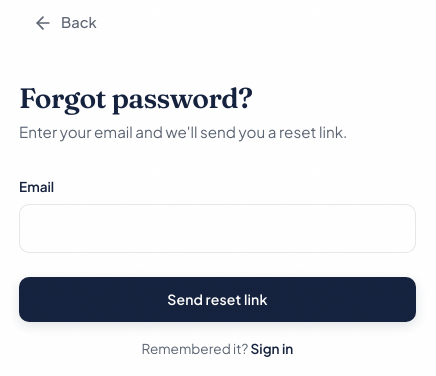
it: ForgotPasswordPage › shows Sending… while submitting
Step 1. Type "jane@test.com" into the field labelled "Email" → (217, 229), box [19,204,416,253]
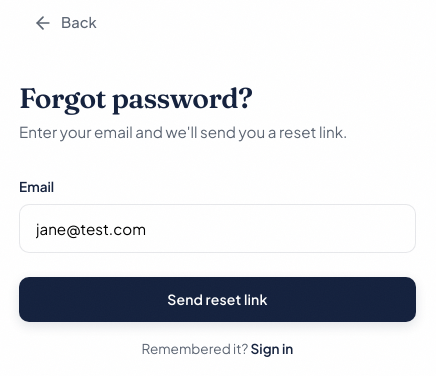
Step 2. Submit the form "Email Send reset link Remembered it? Sign in", box [19,176,416,360]
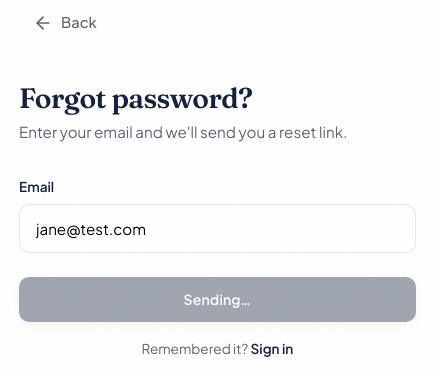
Expected: the button "Sending…" is disabled, [19,277,416,322]
